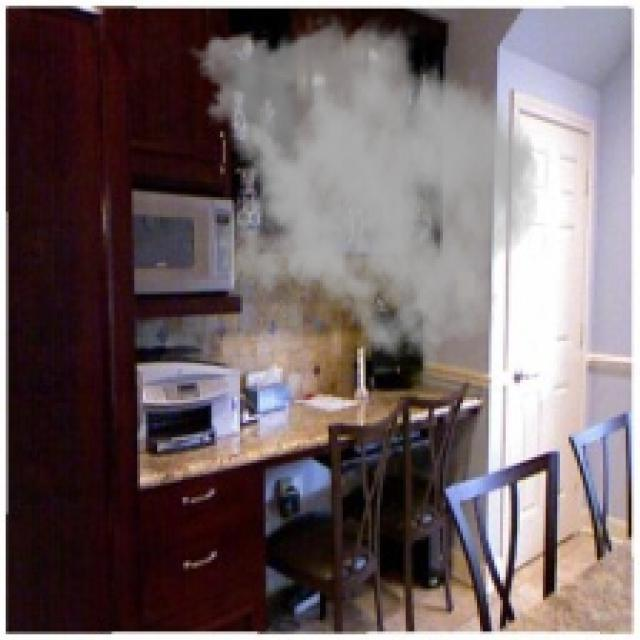Smoke: (183, 11, 540, 372)
